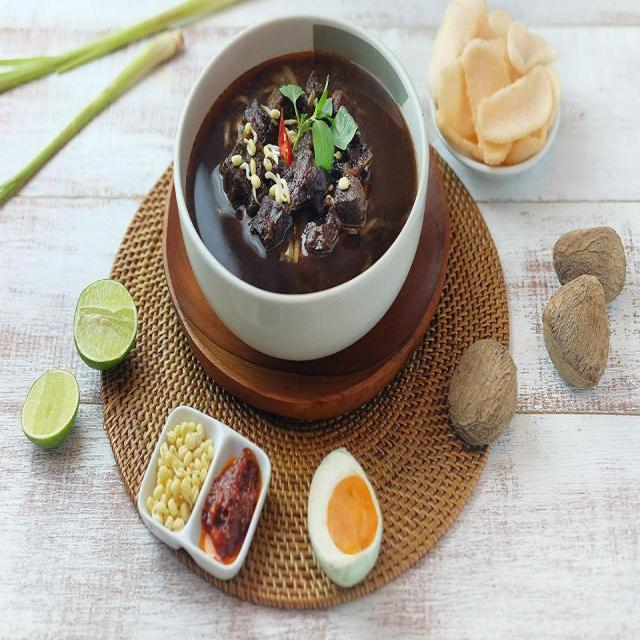Rawon: (179, 30, 421, 300)
